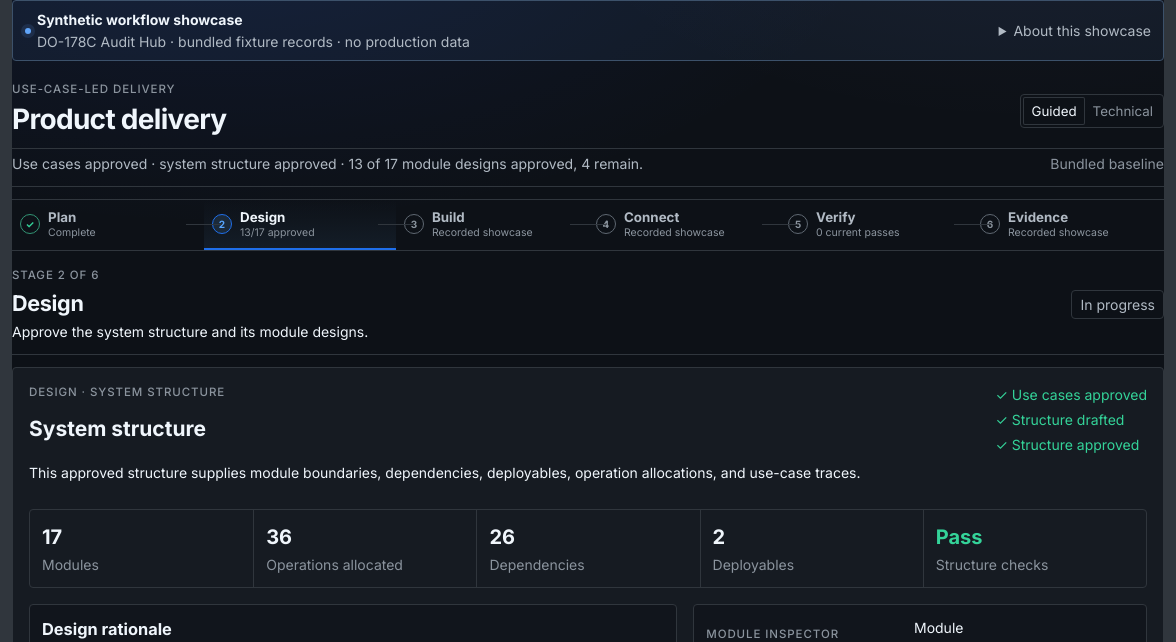
Test: BuildHandoffView — gate mode banner (§3.5) › shows the completeBaseline gate mode by default
This screenshot has width=1176, height=642.
Click the button "3 Build Recorded showcase": (492, 225) [396,200,588,250]
(page scrolled)
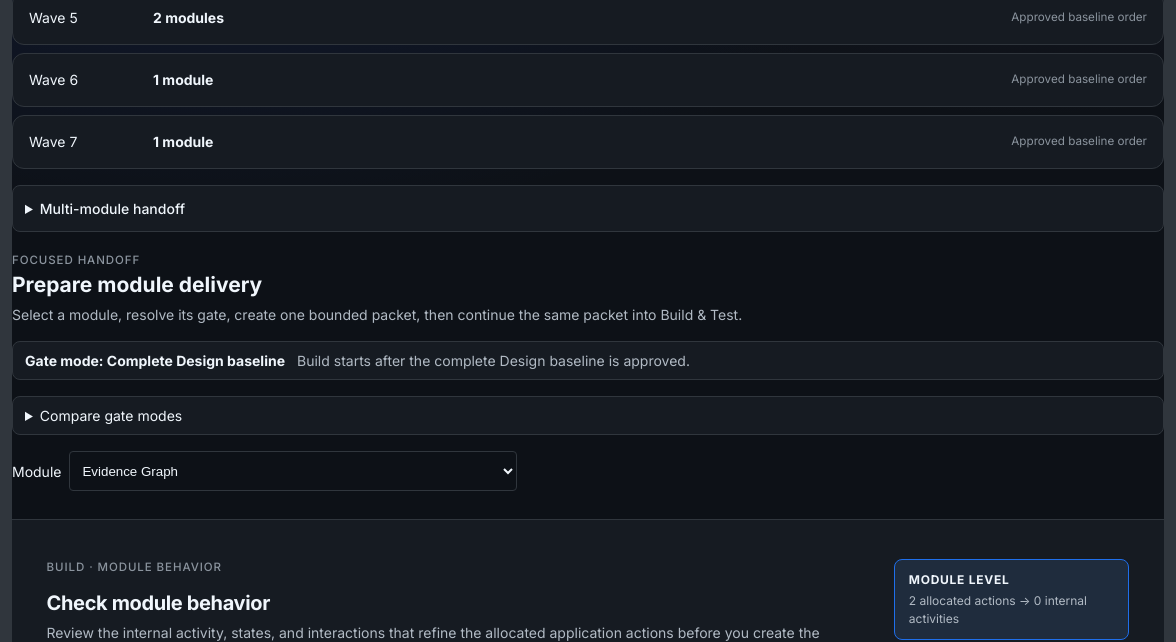
Expected: the element with class "design-gate-mode-banner" is shown, [12,341,1164,380]
Expected: the element with class "design-gate-mode-banner" shows "Build starts after the complete Design baseline is approved.", [297,352,690,369]
